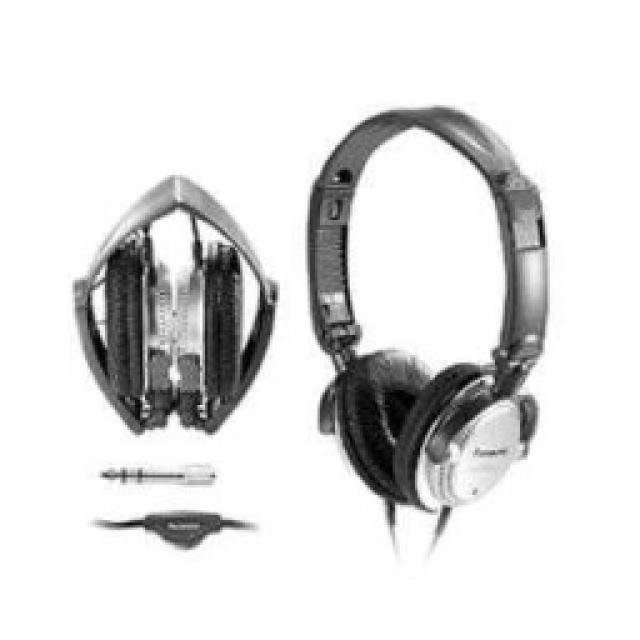headphones: (302, 102, 550, 512)
